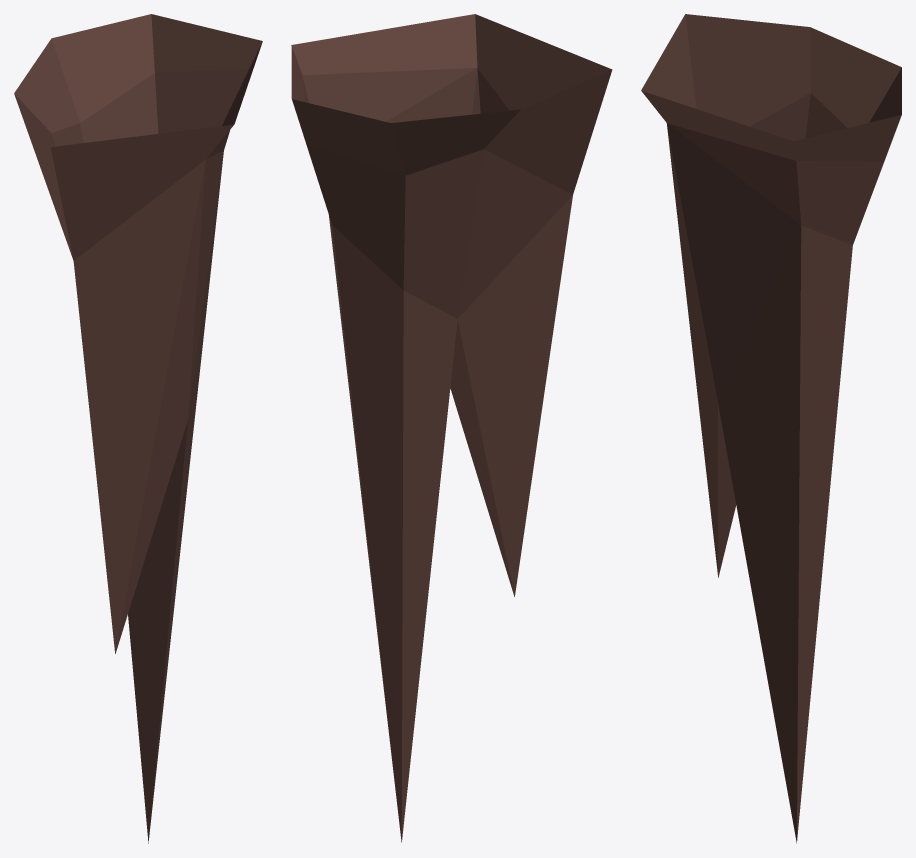
File: Stalacmite-C06.fbx
3 renders of one model, left to right at view 1: azimuth 30°, elevation 25°; view 2: azimuth 150°, elevation 25°; view 3: azimuth 270°, elevation 25°, orthographic. The views are drawn at different scales.
Visible parts, largest first — view 1: Stalacmite-C06; view 2: Stalacmite-C06; view 3: Stalacmite-C06.
Part boxes in pixels (x1=…): Stalacmite-C06: x1=14, y1=14, x2=262, y2=843; Stalacmite-C06: x1=291, y1=14, x2=612, y2=842; Stalacmite-C06: x1=641, y1=14, x2=901, y2=843.
Bounding box in the file's own units: 99.61 × 276 × 86.27.
